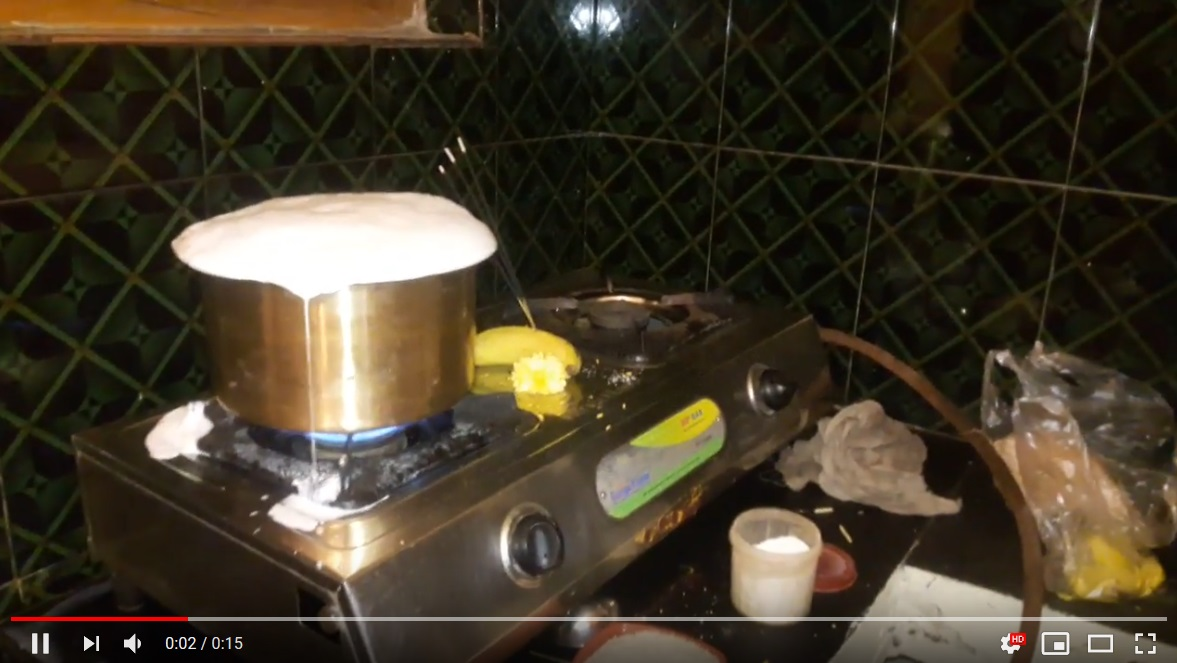Boiled: (163, 177, 503, 460)
